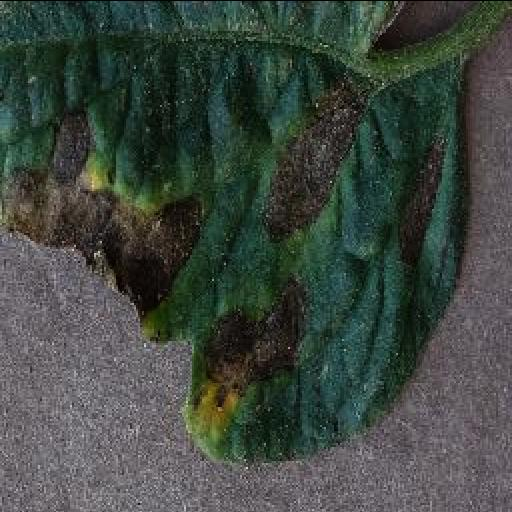disease_tomato: (0, 0, 465, 465)
